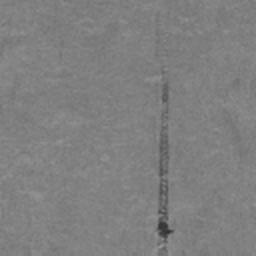Slag inclusion: (156, 126, 174, 243), (161, 82, 169, 104), (161, 108, 169, 120), (159, 247, 167, 256)
